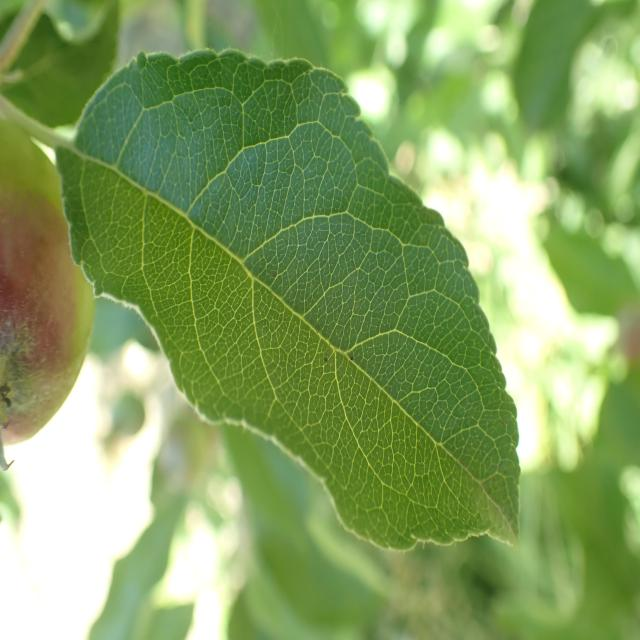healthy: (57, 46, 521, 553)
